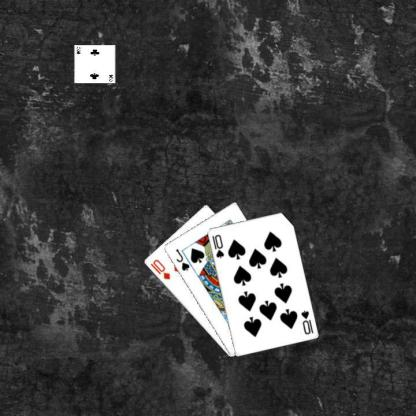10D: (147, 256, 171, 281)
10S: (298, 307, 314, 336), (209, 232, 225, 259)
JS: (172, 246, 190, 272)
